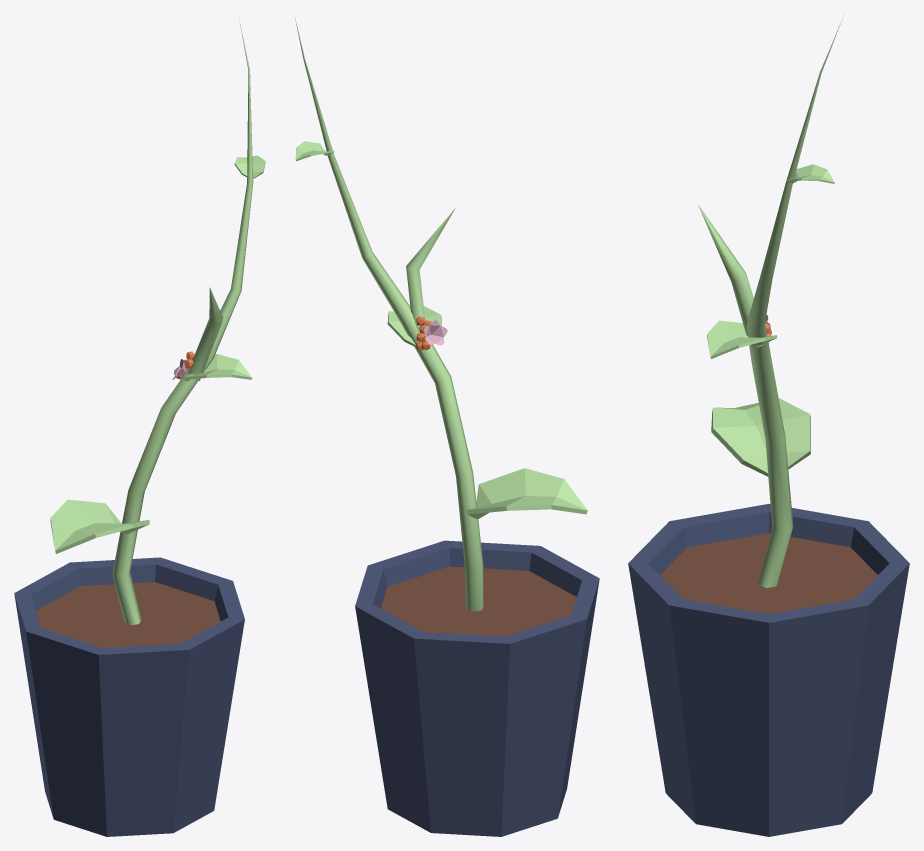
File: Level2.1.fbx
3 views of the same model, side by side, from view 1: azimuth 30°, elevation 25°; view 2: azimuth 150°, elevation 25°; view 3: azimuth 270°, elevation 25° (orthographic). The views are drawn at different scales.
Visible parts, largest first — view 1: Pot, Stem1, Leaf1, Stem2, Leaf2; view 2: Pot, Stem1, Leaf1, Stem2, Leaf2; view 3: Pot, Stem1, Leaf1, Stem2, Leaf2, Leaf3.
Part boxes in pixels (x1=…): Pot: x1=14, y1=557, x2=244, y2=836; Stem1: x1=112, y1=16, x2=253, y2=625; Leaf1: x1=50, y1=499, x2=149, y2=553; Stem2: x1=187, y1=287, x2=222, y2=380; Leaf2: x1=183, y1=354, x2=251, y2=381; Pot: x1=355, y1=540, x2=599, y2=836; Stem1: x1=294, y1=16, x2=483, y2=611; Leaf1: x1=466, y1=468, x2=587, y2=519; Stem2: x1=406, y1=207, x2=455, y2=334; Leaf2: x1=387, y1=306, x2=441, y2=346; Pot: x1=628, y1=504, x2=909, y2=836; Stem1: x1=746, y1=14, x2=844, y2=587; Leaf1: x1=711, y1=398, x2=810, y2=476; Stem2: x1=698, y1=204, x2=764, y2=347; Leaf2: x1=707, y1=320, x2=777, y2=358; Leaf3: x1=786, y1=164, x2=834, y2=183.
Bounding box in the file's own units: 401 × 1103 × 327.
